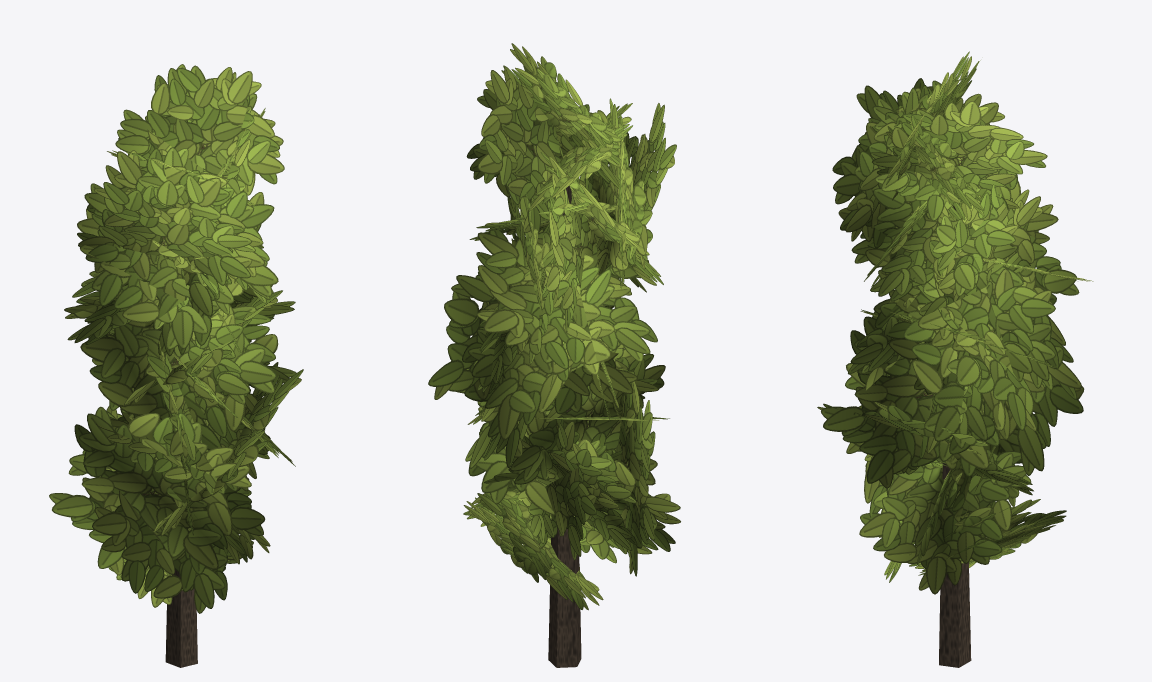
File: pioppo_2_leggero.glb
3 views of the same model, side by side, from view 1: azimuth 30°, elevation 25°; view 2: azimuth 150°, elevation 25°; view 3: azimuth 270°, elevation 25° (orthographic). The views are drawn at different scales.
Parts seen in each view (by area): view 1: pioppo_2_leggero; view 2: pioppo_2_leggero; view 3: pioppo_2_leggero.
Part boxes in pixels (x1,y1,x2,y2): pioppo_2_leggero: (49,64,303,667); pioppo_2_leggero: (428,43,680,667); pioppo_2_leggero: (817,51,1093,667).
Size of the model in its own units: 10.01 by 21.15 by 11.07.
Materials: 2 (2 with a texture image).
